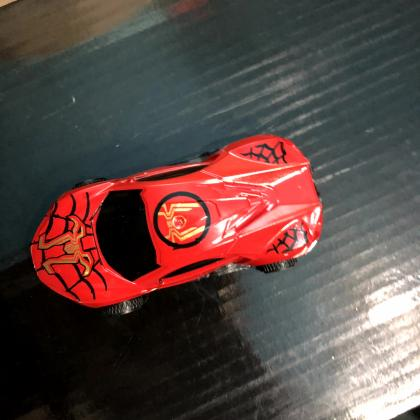Car: (30, 135, 323, 311)
